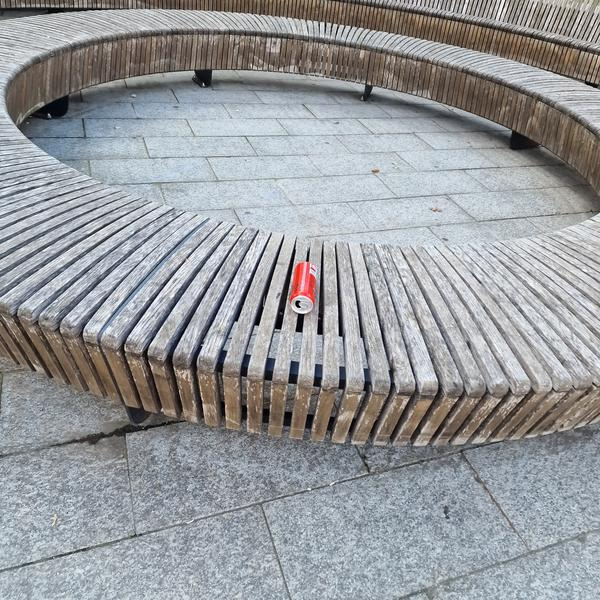can: (287, 260, 320, 317)
